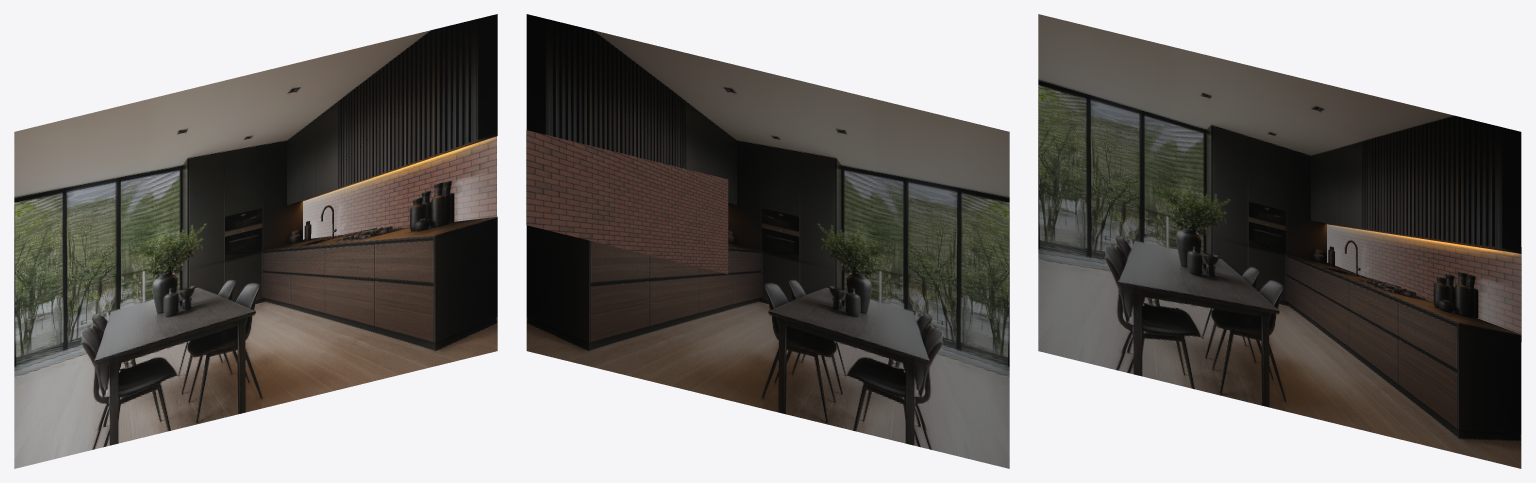
Rendered from place-mutfak.glb.
3 views of the same model, side by side, from view 1: azimuth 30°, elevation 25°; view 2: azimuth 150°, elevation 25°; view 3: azimuth 330°, elevation 25° (orthographic).
Visible parts, largest first — view 1: tugla; view 2: tugla; view 3: tugla.
Boxes of the visible parts, x1=… form: tugla: x1=14, y1=14, x2=497, y2=468; tugla: x1=526, y1=14, x2=1009, y2=468; tugla: x1=1038, y1=14, x2=1521, y2=468.
Size of the model in its own units: 1.5 by 1 by 0.00261.
8 materials, 8 textured.
